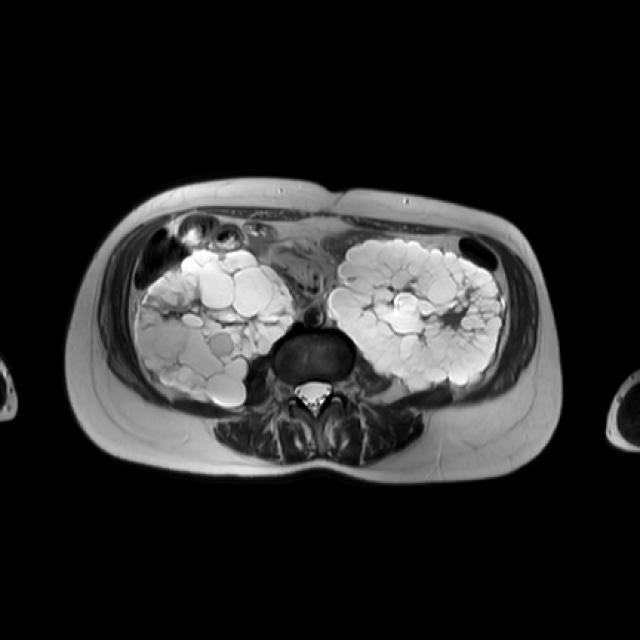sag: (136, 249, 294, 410)
sol: (332, 239, 500, 391)
